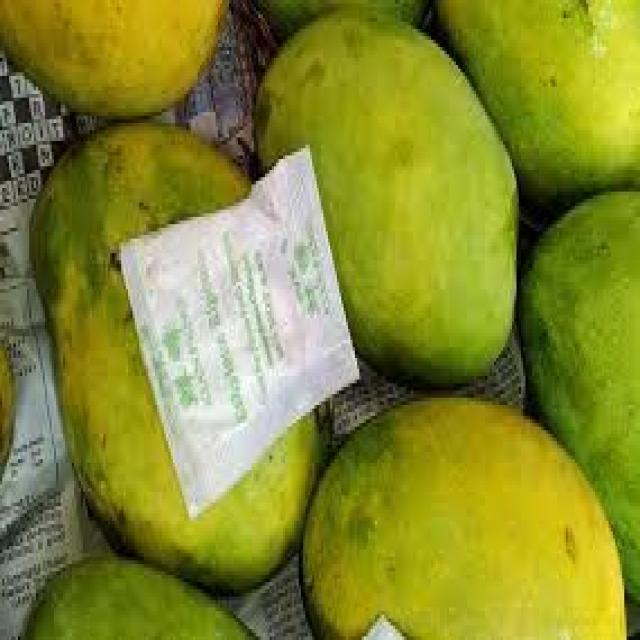mango: (252, 11, 519, 394)
